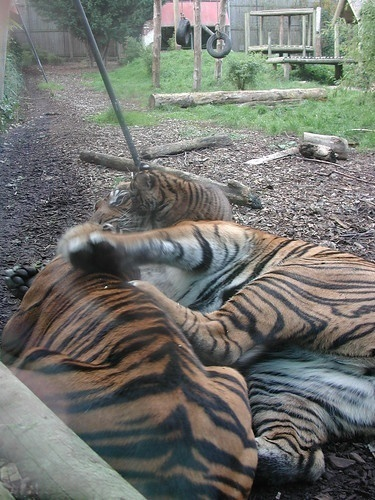tigre: (67, 201, 371, 477), (1, 235, 260, 498), (105, 161, 246, 220)
